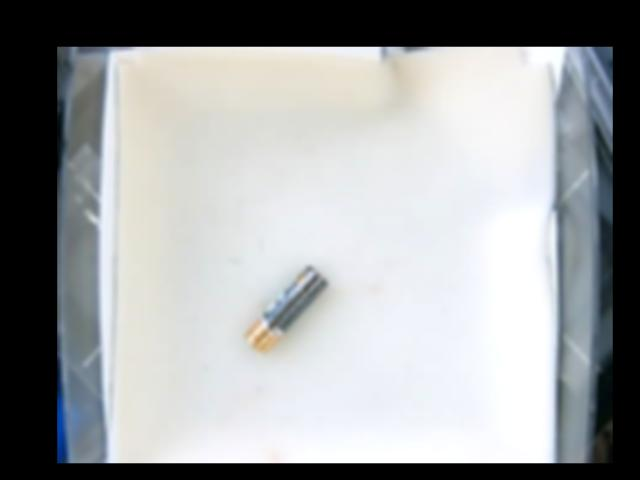Battery: (241, 265, 327, 352)
